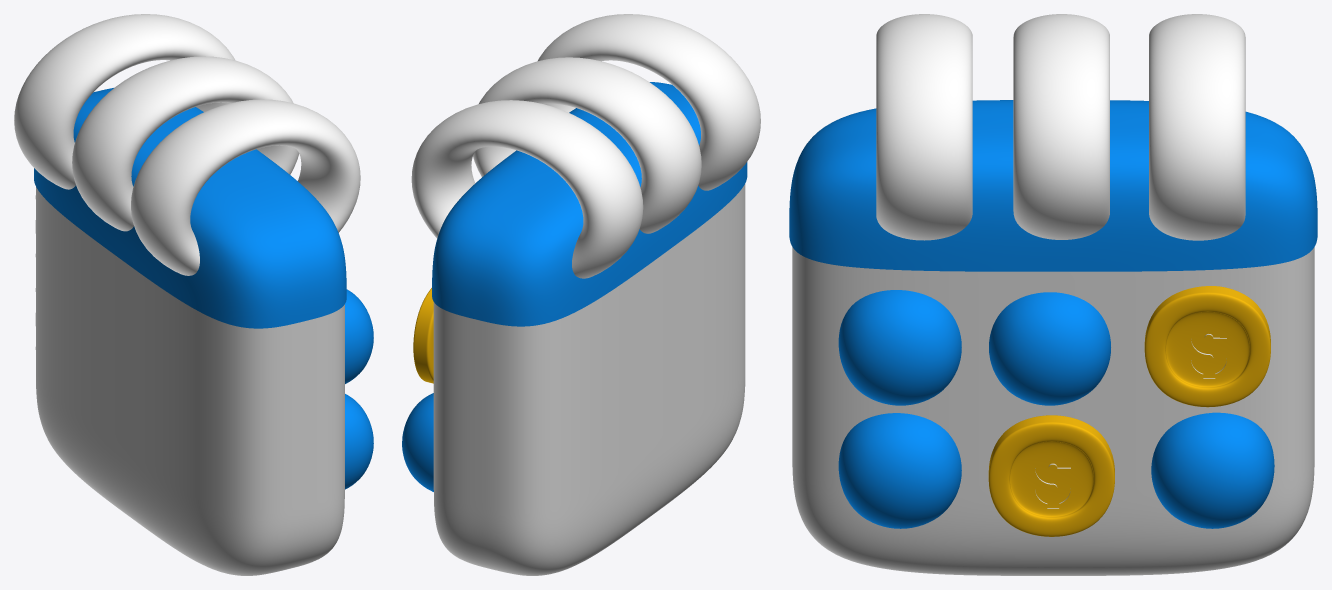
Rendered from financial-calendar-6507817-2.glb.
The picture shows the model from 3 angles, left to right: view 1: azimuth 30°, elevation 25°; view 2: azimuth 150°, elevation 25°; view 3: azimuth 270°, elevation 25°; orthographic projection. The views are drawn at different scales.
Parts seen in each view (by area): view 1: Cube, Cube.001, Torus.002, Torus.001, Torus.003, Cube.002, Cube.005; view 2: Cube, Cube.001, Torus.003, Torus.001, Torus.002, Cube.007, Cube.008; view 3: Cube, Cube.001, Torus.003, Torus.002, Torus.001, Cube.003, Cube.008, Cube.007, Cube.002, Cube.005, Cube.006.
Boxes of the visible parts, x1=… form: Cube: x1=35, y1=187, x2=344, y2=575; Cube.001: x1=34, y1=88, x2=346, y2=328; Torus.002: x1=131, y1=99, x2=360, y2=275; Torus.001: x1=72, y1=56, x2=299, y2=231; Torus.003: x1=14, y1=14, x2=235, y2=189; Cube.002: x1=345, y1=394, x2=373, y2=489; Cube.005: x1=345, y1=289, x2=373, y2=383; Cube: x1=433, y1=184, x2=745, y2=575; Cube.001: x1=432, y1=82, x2=747, y2=326; Torus.003: x1=411, y1=100, x2=643, y2=278; Torus.001: x1=473, y1=57, x2=701, y2=233; Torus.002: x1=538, y1=14, x2=760, y2=190; Cube.007: x1=402, y1=393, x2=433, y2=491; Cube.008: x1=413, y1=288, x2=433, y2=383; Cube: x1=792, y1=247, x2=1314, y2=575; Cube.001: x1=789, y1=100, x2=1317, y2=271; Torus.003: x1=1149, y1=14, x2=1245, y2=240; Torus.002: x1=876, y1=14, x2=972, y2=240; Torus.001: x1=1013, y1=14, x2=1109, y2=239; Cube.003: x1=988, y1=415, x2=1114, y2=536; Cube.008: x1=1144, y1=286, x2=1270, y2=407; Cube.007: x1=1151, y1=412, x2=1274, y2=528; Cube.002: x1=838, y1=413, x2=961, y2=528; Cube.005: x1=838, y1=290, x2=961, y2=405; Cube.006: x1=989, y1=292, x2=1110, y2=405.
Bounding box in the file's own units: 3.51 × 6.97 × 6.37.
